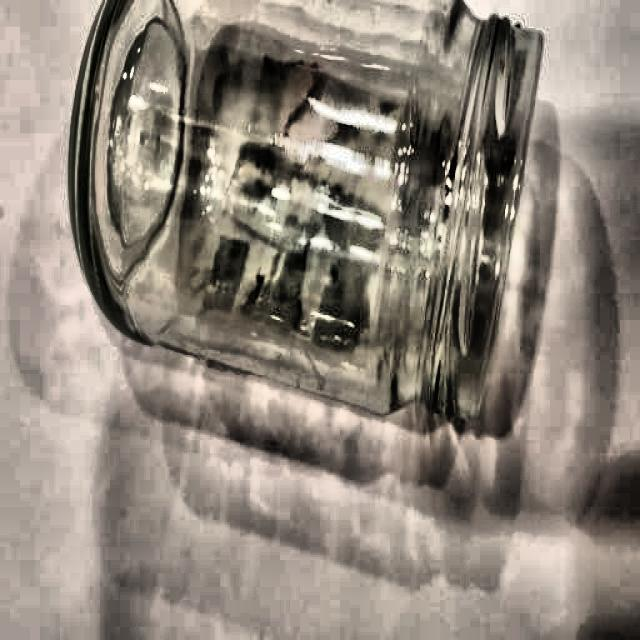glass: (65, 3, 543, 425)
